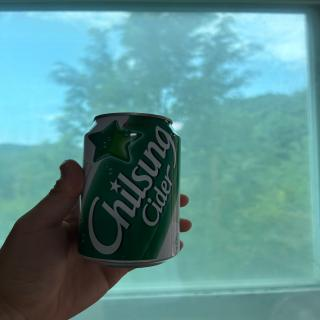chilsung: (72, 111, 183, 266)
